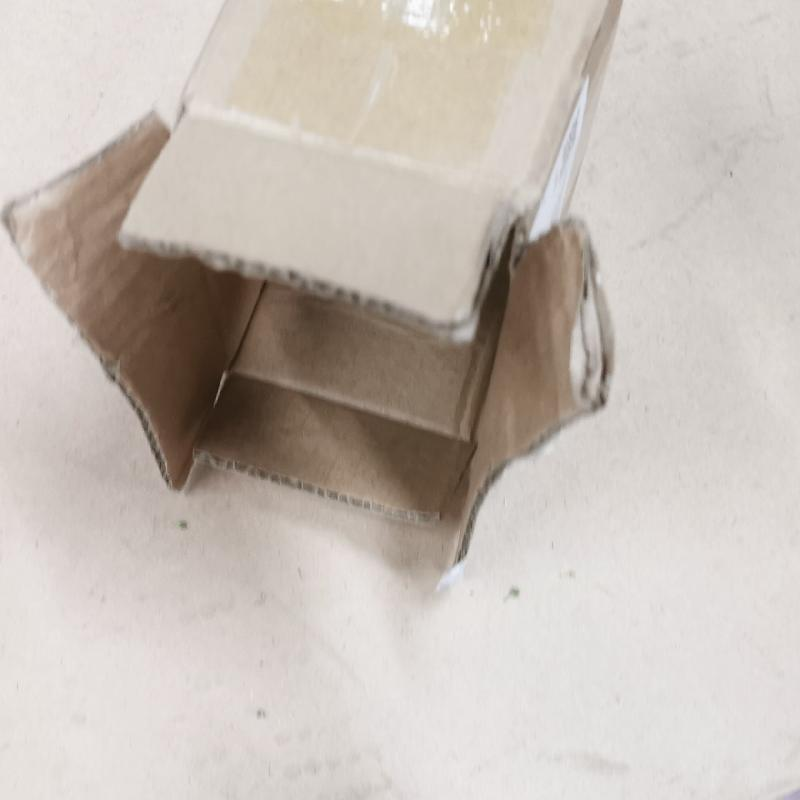boxes: (9, 4, 659, 577)
